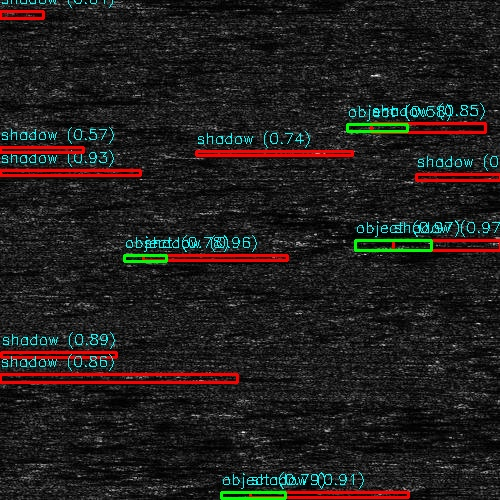rock: (357, 240, 430, 253), (65, 491, 170, 500), (455, 349, 500, 358), (226, 492, 279, 497), (183, 150, 224, 155), (129, 256, 170, 261), (464, 388, 485, 391)
shadow: (118, 491, 405, 500), (0, 374, 225, 381), (394, 240, 500, 253), (0, 171, 134, 178), (204, 150, 374, 155), (253, 492, 406, 497), (150, 256, 280, 261), (0, 148, 81, 153), (42, 376, 105, 379), (475, 388, 500, 391)
